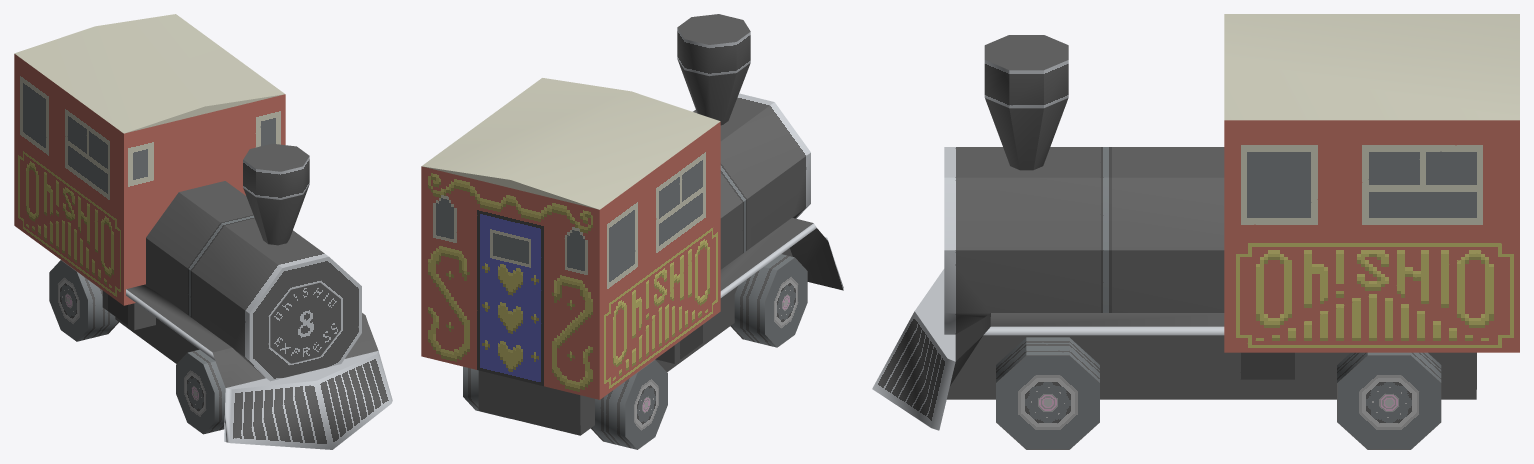
The model's file is 049e_Train.glb.
The picture shows the model from 3 angles, left to right: view 1: azimuth 30°, elevation 25°; view 2: azimuth 150°, elevation 25°; view 3: azimuth 270°, elevation 25°; orthographic projection. The views are drawn at different scales.
Visible parts, largest first — view 1: part_0; view 2: part_0; view 3: part_0.
Part boxes in pixels (<box>): part_0: <box>14,14,392,449</box>; part_0: <box>421,14,843,449</box>; part_0: <box>872,14,1519,449</box>.
Bounding box in the file's own units: 2.21 × 3.24 × 5.45.
Materials: 1 (1 with a texture image).
